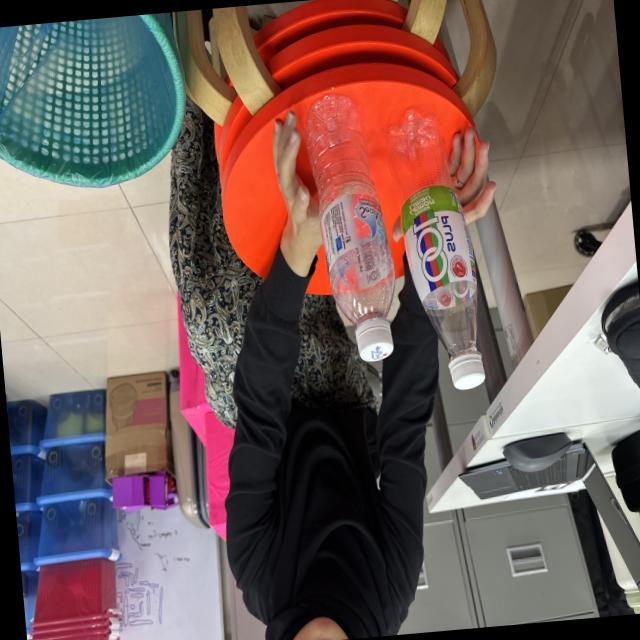dustbin: (0, 10, 208, 206)
plastic_bottle: (382, 91, 489, 405), (296, 82, 404, 370)
